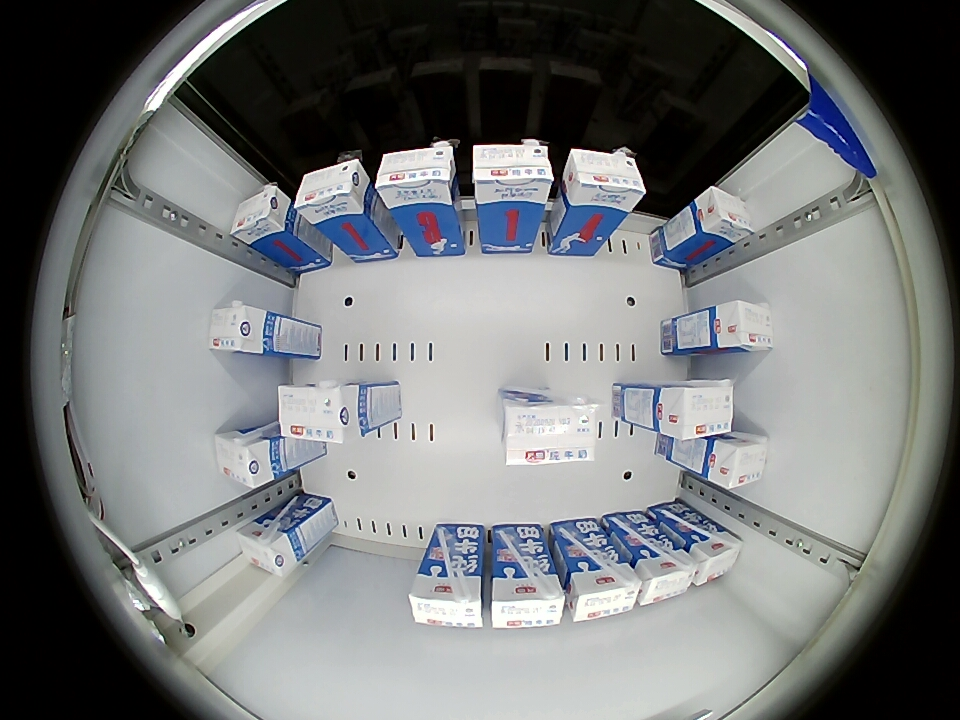niunai: (502, 394, 602, 468), (561, 147, 646, 217), (278, 381, 363, 450), (375, 143, 457, 212), (294, 157, 371, 228), (472, 142, 553, 207), (409, 566, 483, 629), (655, 381, 734, 440), (489, 569, 566, 629), (567, 561, 640, 623), (230, 183, 292, 250), (692, 185, 755, 247), (214, 428, 276, 489), (236, 519, 300, 578), (636, 546, 695, 607), (708, 431, 769, 490), (686, 526, 743, 586), (712, 299, 774, 353), (209, 301, 269, 356)
